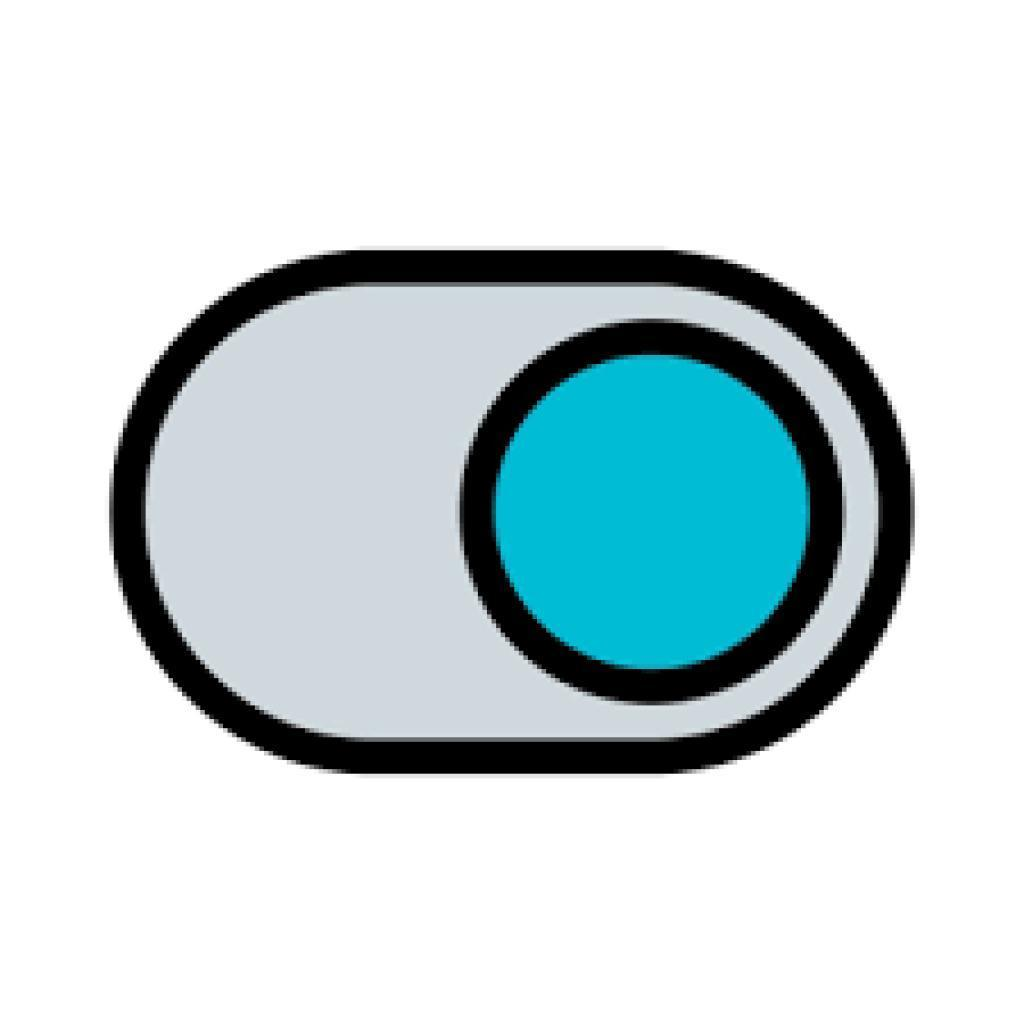switch: (105, 248, 917, 775)
